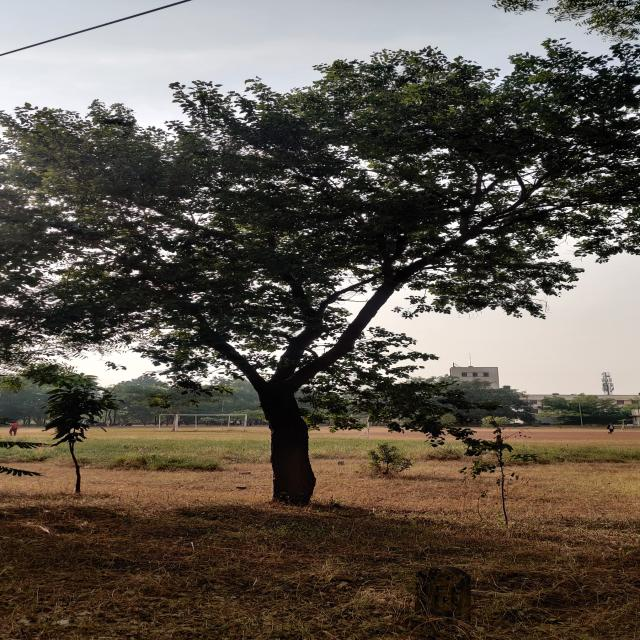Devakanchan tree: (21, 98, 541, 357)
